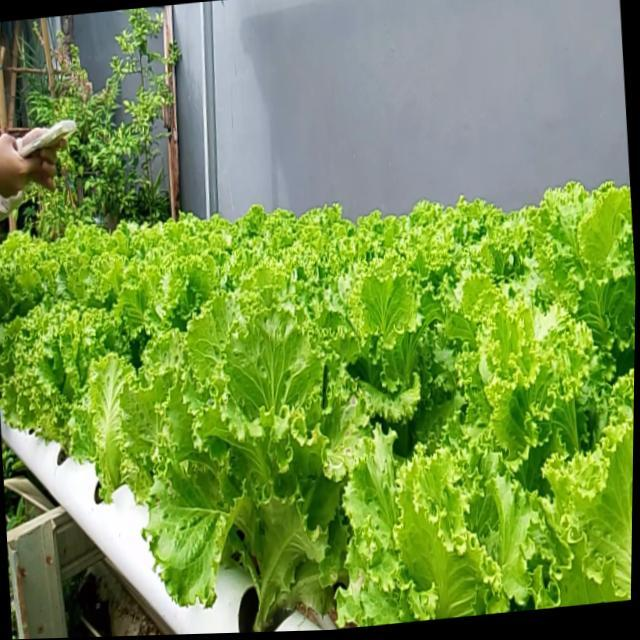Mature: (0, 180, 635, 628), (171, 317, 365, 615), (2, 269, 143, 478)
